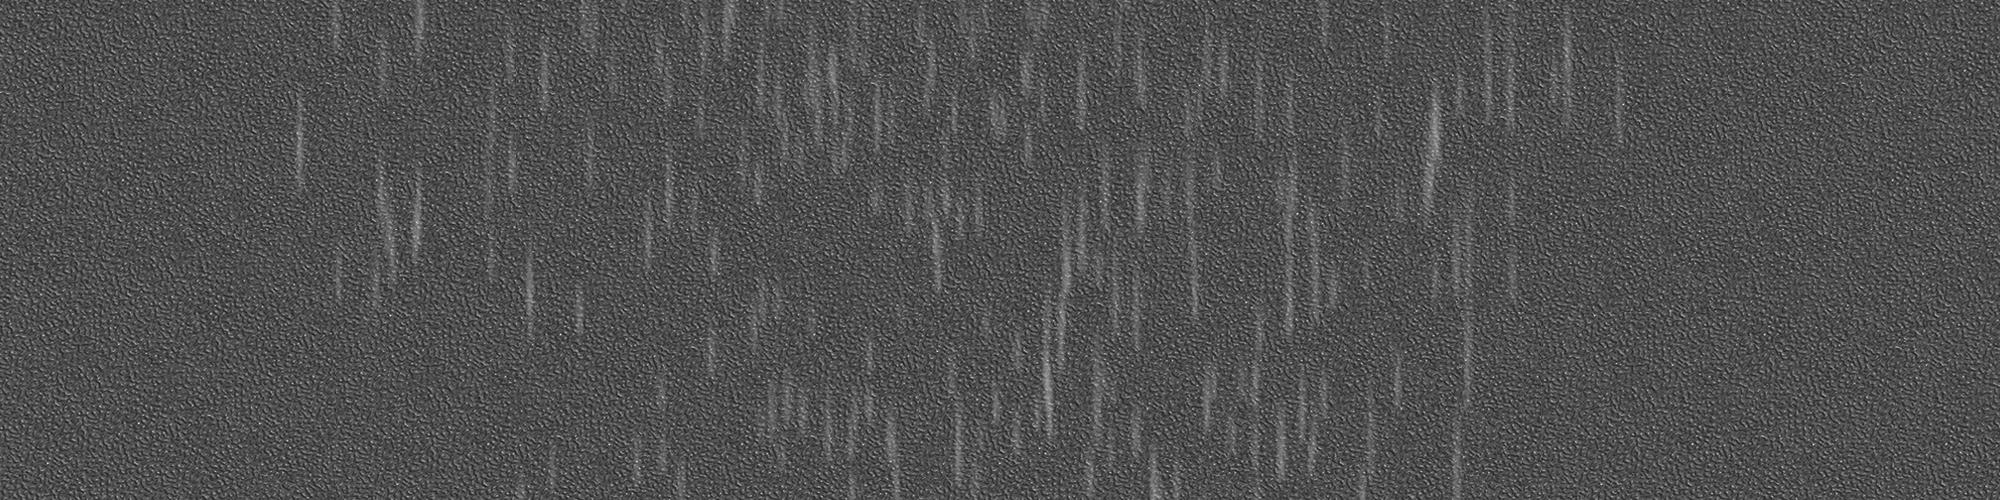Streaks: (1418, 151, 1526, 497), (1251, 42, 1364, 333), (1446, 4, 1638, 163), (1190, 327, 1338, 497), (747, 372, 915, 500), (1122, 122, 1210, 351), (857, 157, 989, 300), (1038, 166, 1101, 455), (767, 3, 861, 193), (943, 314, 1034, 499), (1074, 355, 1191, 499), (332, 144, 426, 320), (471, 33, 526, 298), (978, 6, 1062, 167), (907, 3, 978, 156), (625, 344, 694, 499), (1075, 6, 1159, 131), (1346, 348, 1411, 499), (744, 267, 830, 364), (1176, 18, 1235, 147), (1408, 69, 1453, 228), (634, 142, 687, 274), (629, 17, 687, 128), (673, 3, 744, 79), (501, 429, 571, 500), (1102, 151, 1124, 342), (858, 70, 907, 156), (733, 126, 778, 216), (566, 112, 608, 187), (286, 78, 311, 202), (1364, 6, 1406, 79), (526, 45, 561, 122), (520, 228, 542, 348), (366, 24, 392, 120), (702, 221, 730, 301), (746, 40, 774, 119), (564, 270, 591, 349), (569, 6, 610, 56), (702, 324, 726, 401), (1310, 1, 1338, 62), (407, 8, 434, 70), (852, 339, 892, 375), (325, 3, 344, 59)
